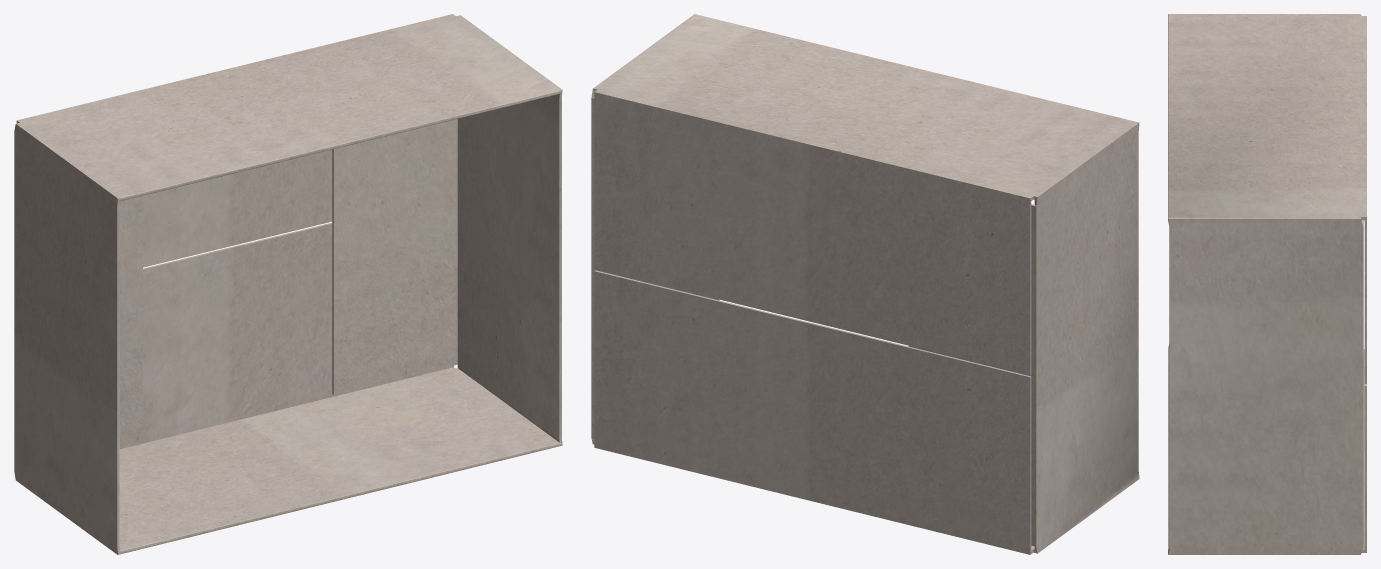
Rendered from MeshBox_8_0.obj.
The picture shows the model from 3 angles, left to right: view 1: azimuth 30°, elevation 25°; view 2: azimuth 150°, elevation 25°; view 3: azimuth 270°, elevation 25°; orthographic projection. The views are drawn at different scales.
Visible parts, largest first — view 1: Box_8; view 2: Box_8; view 3: Box_8.
Boxes of the visible parts, x1,y1,x2,y2 form: Box_8: (14, 14, 562, 554); Box_8: (591, 14, 1139, 554); Box_8: (1168, 14, 1366, 554).
Size of the model in its own units: 0.3463 by 0.2652 by 0.142.
Materials: 1 (1 with a texture image).
